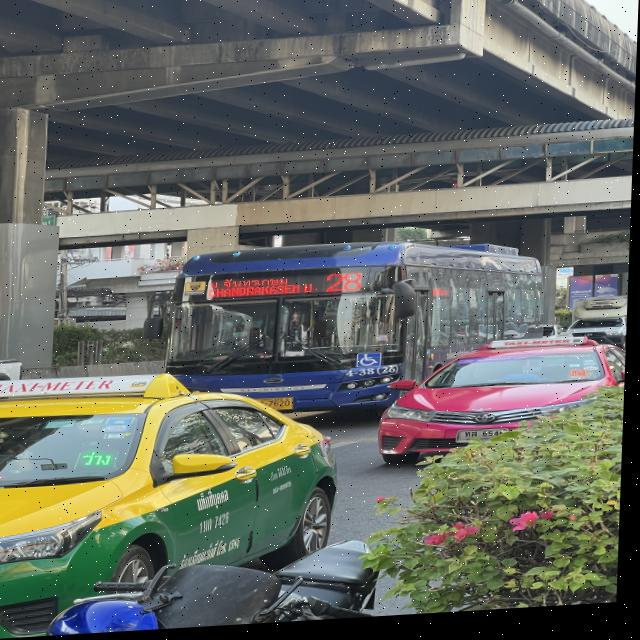Bus Line Number: (324, 272, 369, 299)
Bus Side Number: (347, 368, 405, 383)
Destination Sign: (207, 275, 323, 303)
TSB-Bus: (171, 249, 545, 413)
